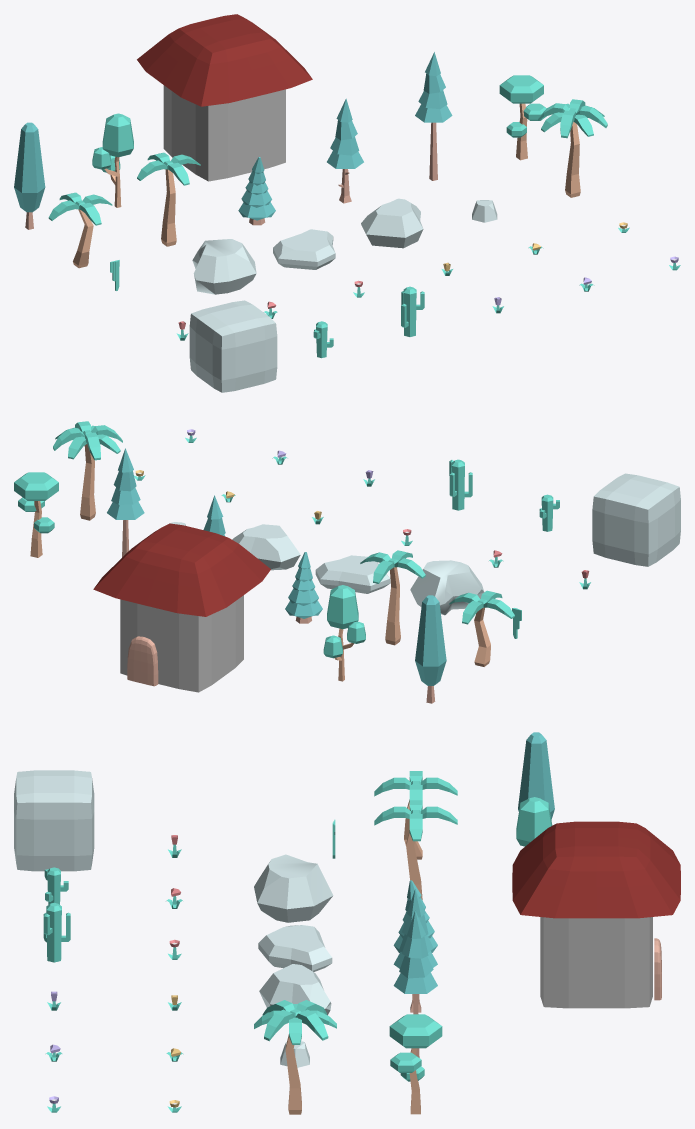
The picture shows the model from 3 angles, top to bottom: view 1: azimuth 30°, elevation 25°; view 2: azimuth 150°, elevation 25°; view 3: azimuth 270°, elevation 25°; orthographic projection. The views are drawn at different scales.
Visible parts, largest first — view 1: House, Cube, stone_largeD, tree_palmDetailedTall, stone_largeF, tree_tall_dark, stone_largeE, tree_plateau, tree_thin, tree_pineTallD, tree_palmTall, tree_pineTallC_detailed (+3 smaller); view 2: House, Cube, stone_largeD, tree_palmDetailedTall, tree_tall_dark, tree_thin, tree_plateau, stone_largeF, stone_largeE, tree_palmTall, tree_pineTallD, tree_palmShort (+4 smaller); view 3: House, Cube, stone_largeD, tree_palmDetailedTall, tree_plateau, stone_largeE, tree_pineTallD, stone_largeF, tree_tall_dark, tree_palmTall, tree_palmShort, tree_thin (+4 smaller).
Part boxes in pixels (x1,y1,x2,y2): House: (137, 14, 312, 181); Cube: (189, 300, 277, 392); stone_largeD: (192, 239, 256, 294); tree_palmDetailedTall: (538, 99, 607, 197); stone_largeF: (361, 198, 423, 248); tree_tall_dark: (14, 122, 45, 229); stone_largeE: (273, 229, 335, 269); tree_plateau: (499, 75, 546, 160); tree_thin: (92, 113, 133, 207); tree_pineTallD: (415, 52, 452, 180); tree_palmTall: (137, 152, 200, 246); tree_pineTallC_detailed: (327, 98, 363, 203); House: (93, 523, 270, 692); Cube: (592, 473, 680, 566); stone_largeD: (410, 560, 484, 615); tree_palmDetailedTall: (53, 421, 122, 520); tree_tall_dark: (415, 595, 446, 703); tree_thin: (323, 585, 365, 681); tree_plateau: (14, 472, 58, 557); stone_largeF: (232, 524, 300, 570); stone_largeE: (315, 555, 390, 593); tree_palmTall: (360, 550, 425, 645); tree_pineTallD: (107, 448, 144, 557); tree_palmShort: (449, 590, 514, 666); House: (512, 821, 680, 1008); Cube: (14, 770, 94, 871); stone_largeD: (254, 854, 333, 922); tree_palmDetailedTall: (254, 1000, 336, 1114); tree_plateau: (389, 1014, 442, 1114); stone_largeE: (258, 925, 332, 971); tree_pineTallD: (393, 910, 437, 1057); stone_largeF: (259, 964, 331, 1015); tree_tall_dark: (518, 732, 554, 819); tree_palmTall: (374, 800, 457, 899); tree_palmShort: (374, 771, 457, 859); tree_thin: (516, 797, 552, 846).
Size of the model in its own units: 8.53 by 2.08 by 8.3.
